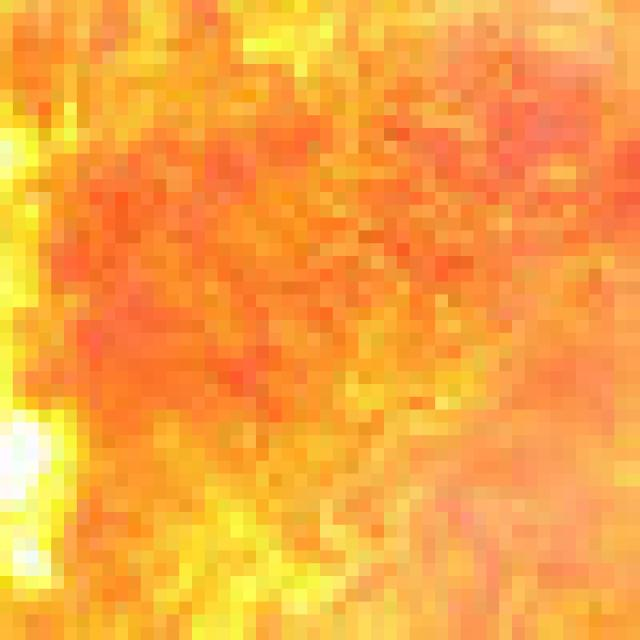fire: (3, 6, 625, 640)
